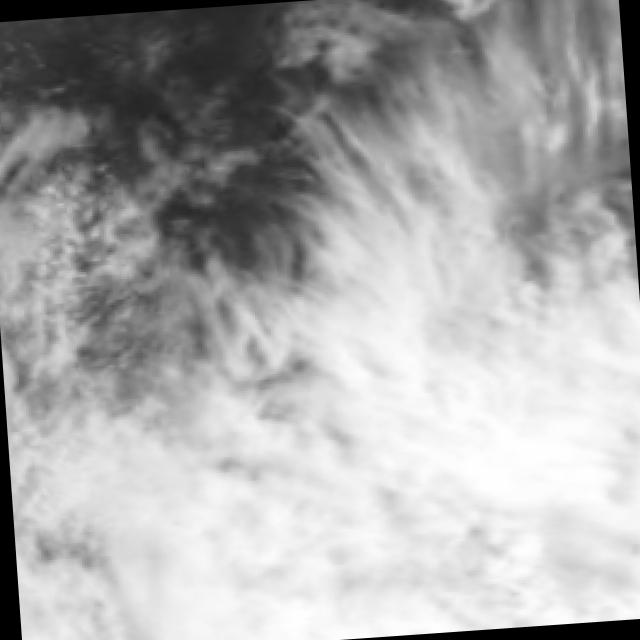CB: (339, 290, 640, 638), (98, 477, 378, 640)
